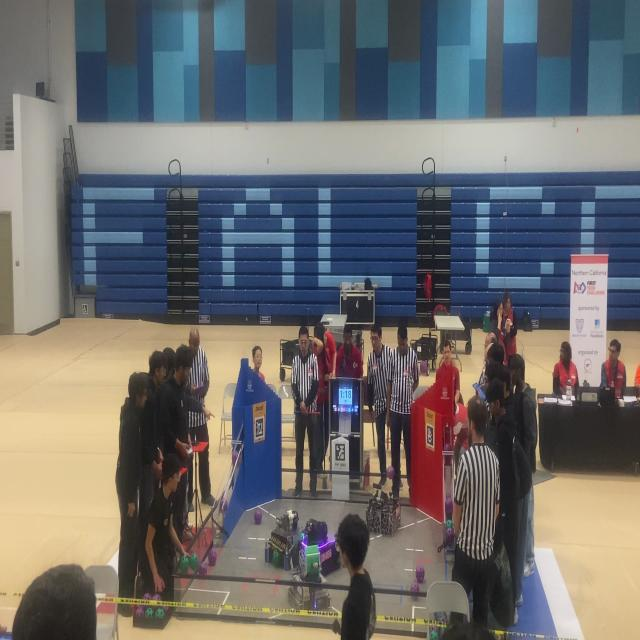artifact_green: (306, 545, 320, 581), (189, 554, 199, 571), (272, 551, 282, 567), (179, 556, 188, 573), (220, 499, 228, 514), (446, 528, 454, 543), (411, 582, 420, 594), (420, 361, 428, 374), (438, 612, 447, 623), (232, 450, 238, 466), (156, 607, 164, 619), (429, 630, 439, 639), (436, 612, 444, 621), (429, 626, 438, 633), (446, 520, 453, 528), (163, 606, 168, 613)
artifact_purple: (189, 554, 199, 571), (208, 549, 217, 567), (445, 497, 453, 515), (416, 566, 424, 583), (254, 510, 262, 525), (446, 528, 454, 543), (220, 499, 228, 513), (437, 612, 447, 623), (429, 628, 439, 639), (198, 563, 207, 575), (411, 582, 420, 593), (387, 466, 394, 480), (232, 450, 238, 465), (156, 608, 164, 619), (136, 606, 144, 617), (420, 361, 427, 373), (145, 607, 153, 617), (151, 594, 161, 601), (444, 443, 452, 451), (446, 519, 453, 528), (429, 626, 438, 633), (143, 593, 151, 600), (162, 606, 168, 613)
